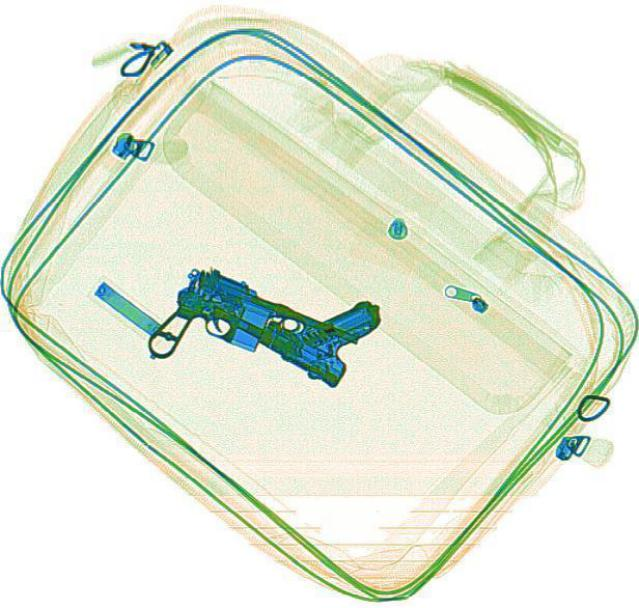Gun: (140, 259, 361, 421), (202, 241, 389, 389)
